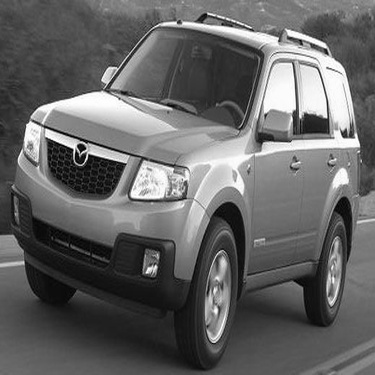car: (5, 12, 369, 370)
